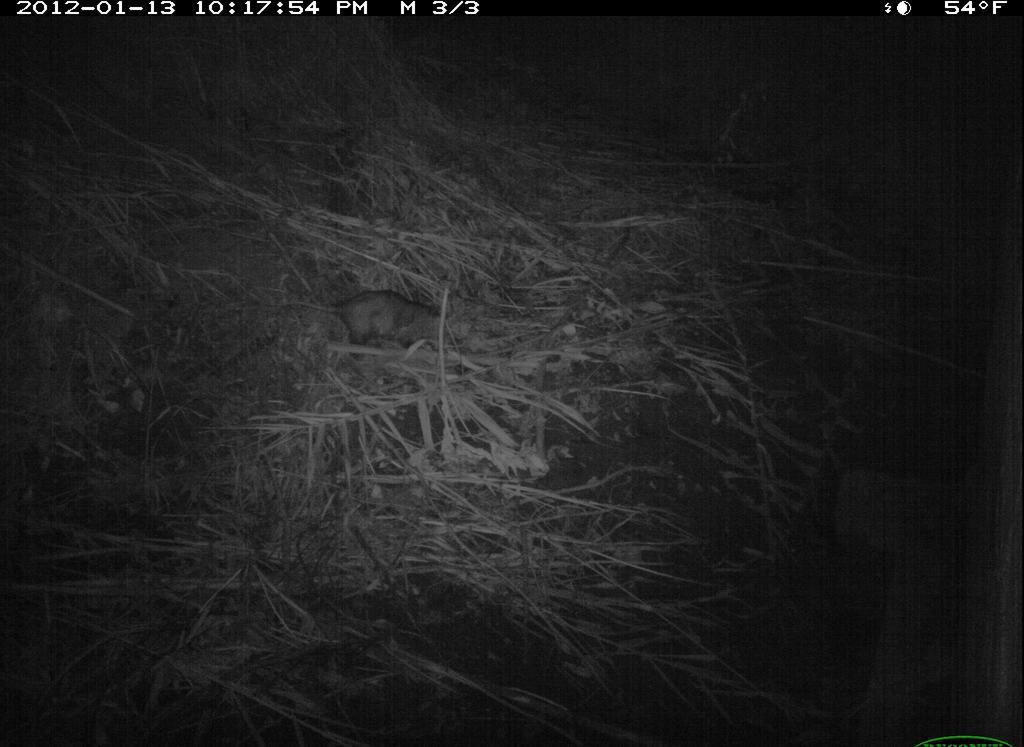opossum: (283, 271, 489, 370)
